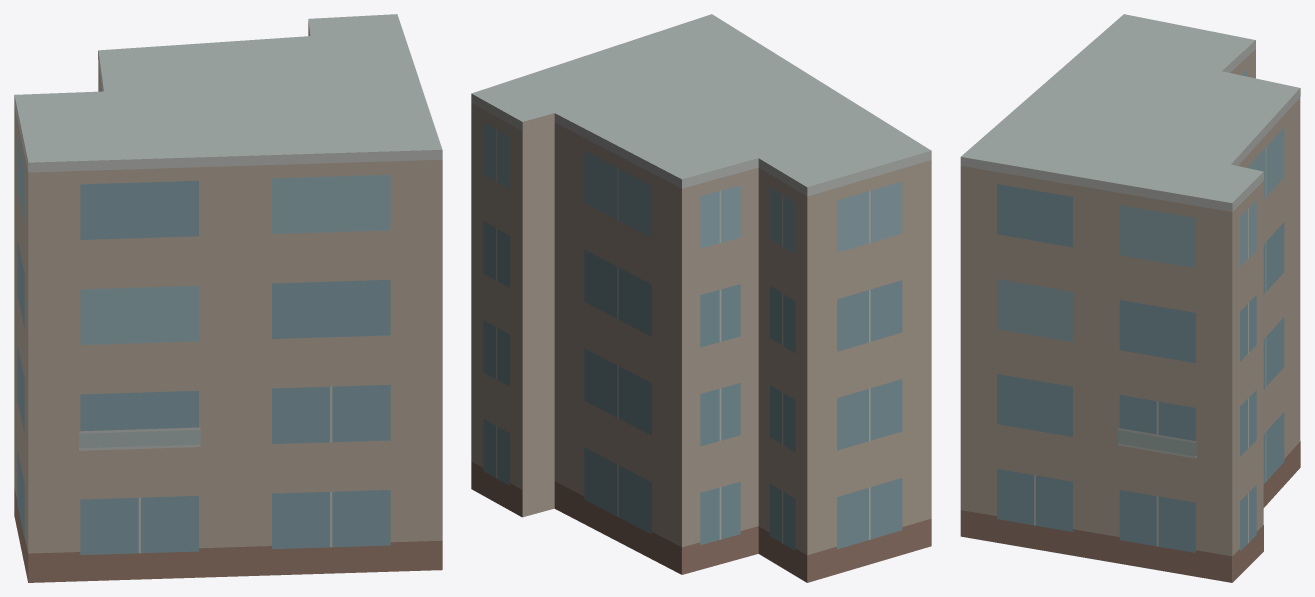
The model's file is survey-upis-32933665.glb.
The picture shows the model from 3 angles, left to right: view 1: azimuth 30°, elevation 25°; view 2: azimuth 150°, elevation 25°; view 3: azimuth 270°, elevation 25°; orthographic projection. The views are drawn at different scales.
Visible parts, largest first — view 1: survey-upis-32933665.tmp; view 2: survey-upis-32933665.tmp; view 3: survey-upis-32933665.tmp.
Boxes of the visible parts, <box> form: survey-upis-32933665.tmp: <box>14,14,442,582</box>; survey-upis-32933665.tmp: <box>471,14,931,582</box>; survey-upis-32933665.tmp: <box>960,14,1300,582</box>.
Size of the model in its own units: 11.12 by 10.4 by 8.44.
